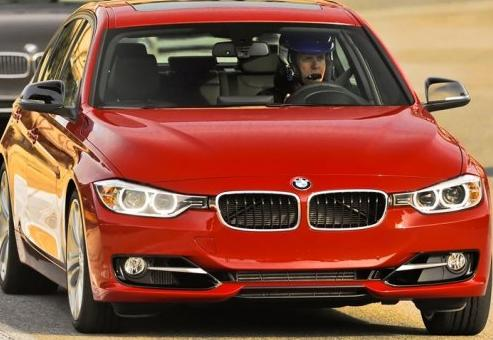front_view: (80, 159, 493, 306)
headlight: (90, 171, 215, 228)
side_glass: (32, 11, 96, 111)
